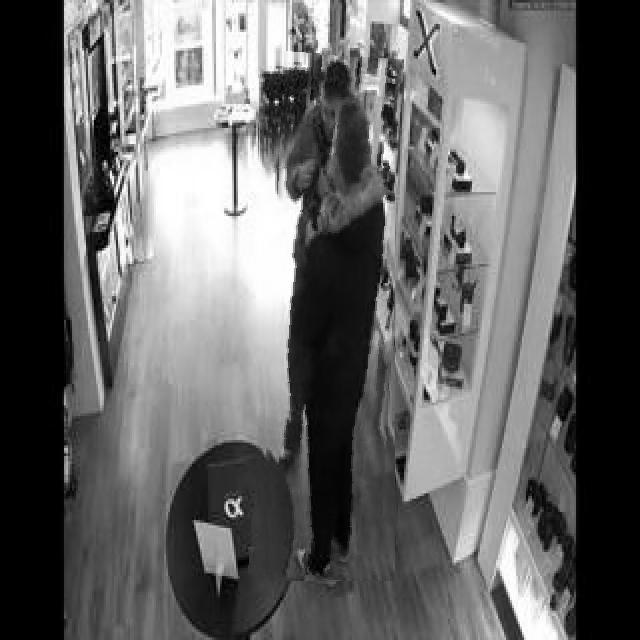Shoplifting: (257, 53, 395, 581)
